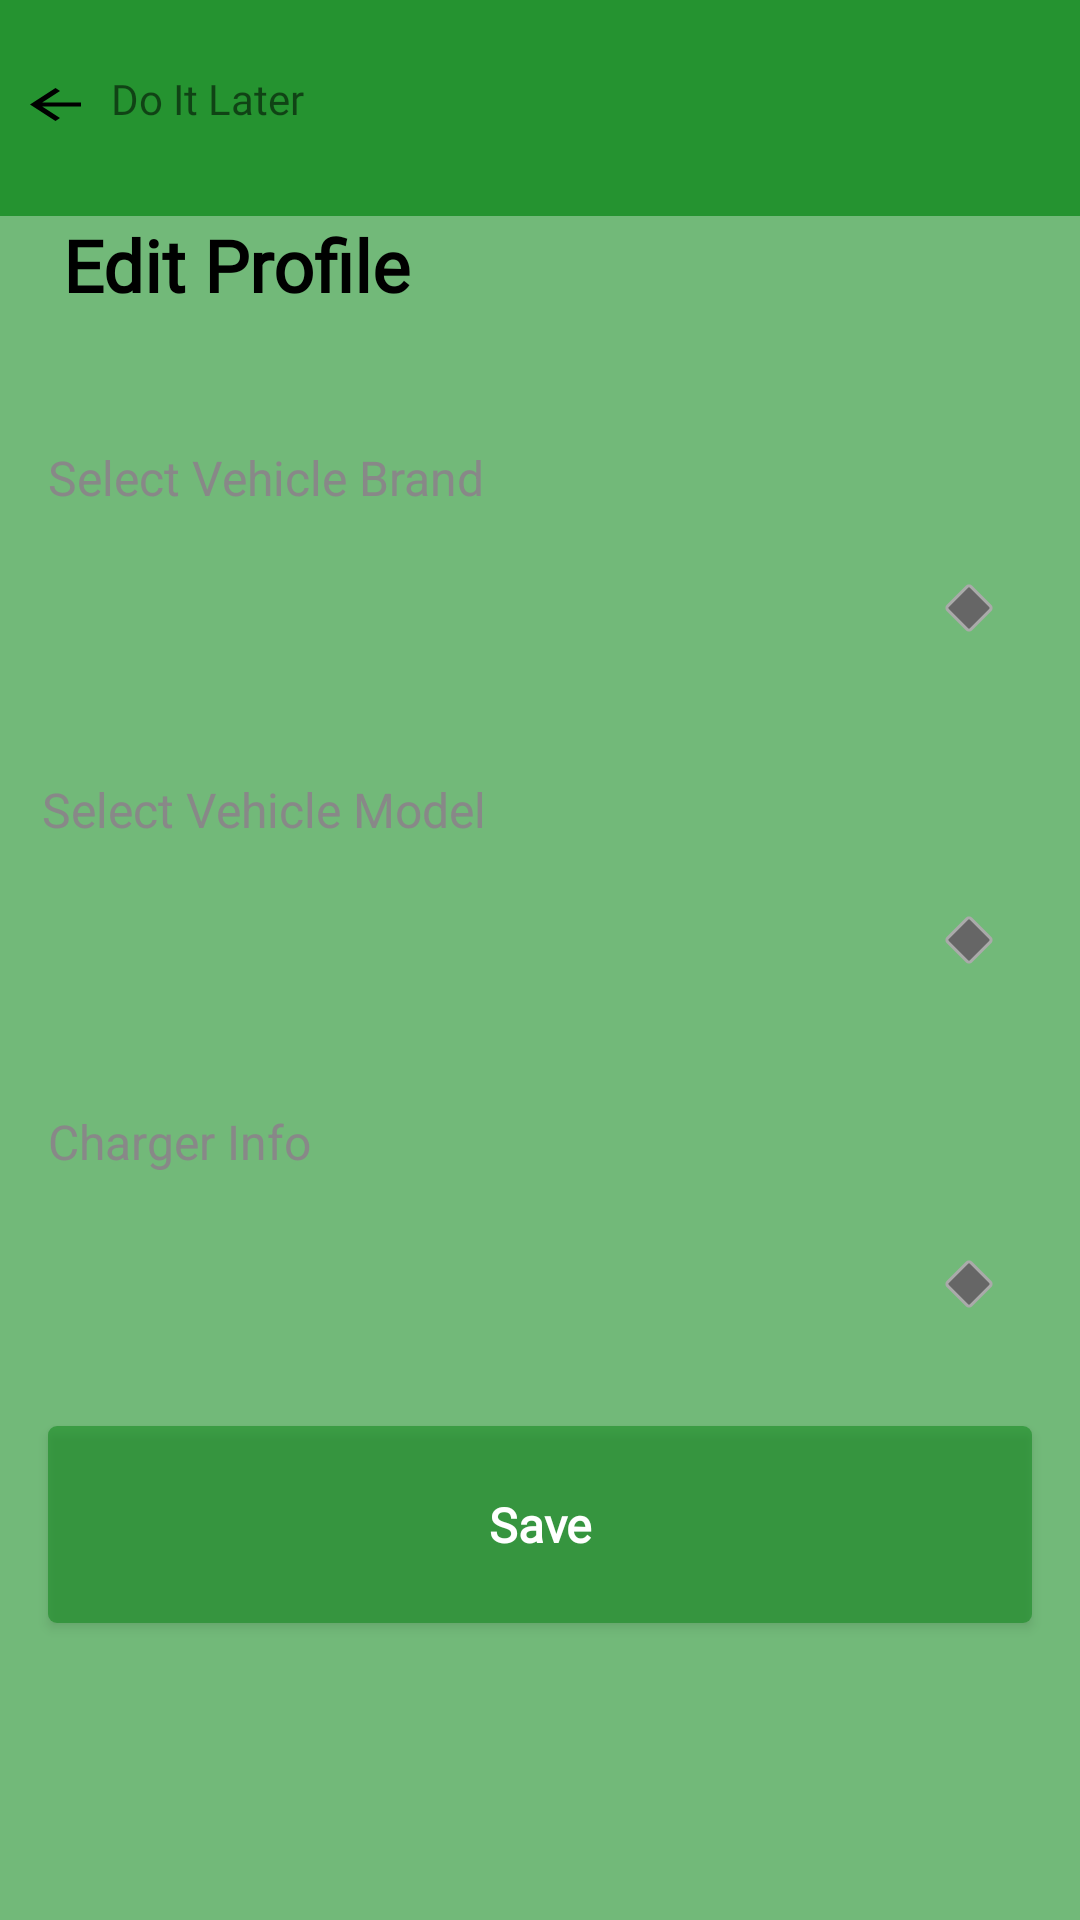

Locate icon controls on the screen. Image size 1080 × 1920, boxes as detection(x1, y1, x2, y2).
arrowleft: detection(30, 88, 81, 121)
